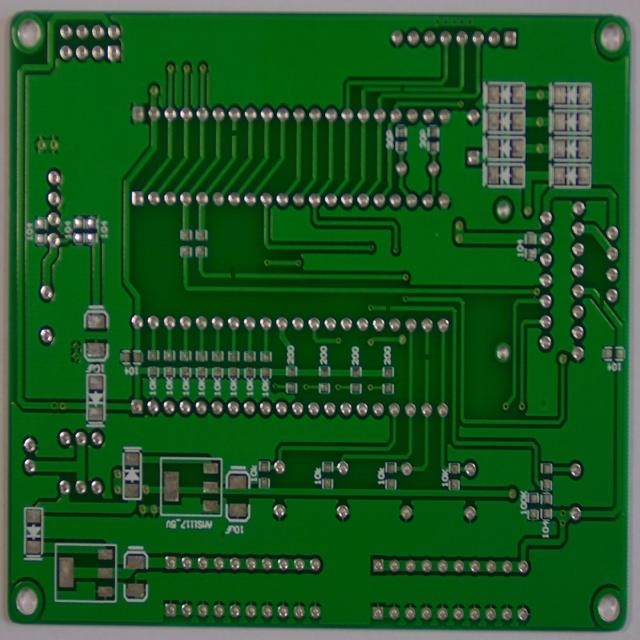open_circuit: (596, 289, 607, 313), (226, 268, 238, 281), (229, 126, 239, 138), (383, 301, 392, 313), (422, 350, 430, 363), (398, 85, 406, 93)
